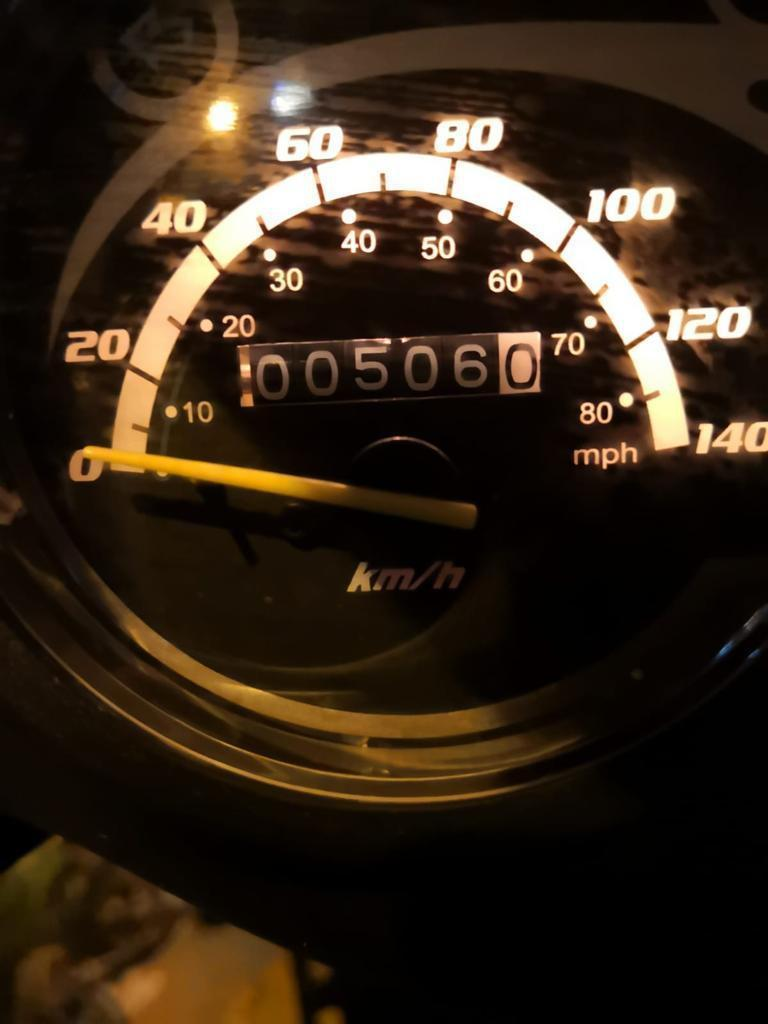0: (401, 341, 440, 394), (301, 347, 340, 398), (502, 339, 538, 392), (254, 351, 291, 402)
5: (348, 341, 391, 392)
6: (449, 340, 490, 392)
odometer: (232, 328, 546, 410)
